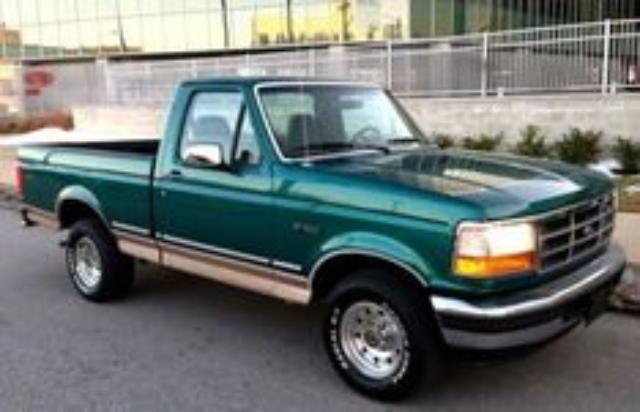pickup-truck: (14, 75, 626, 403)
